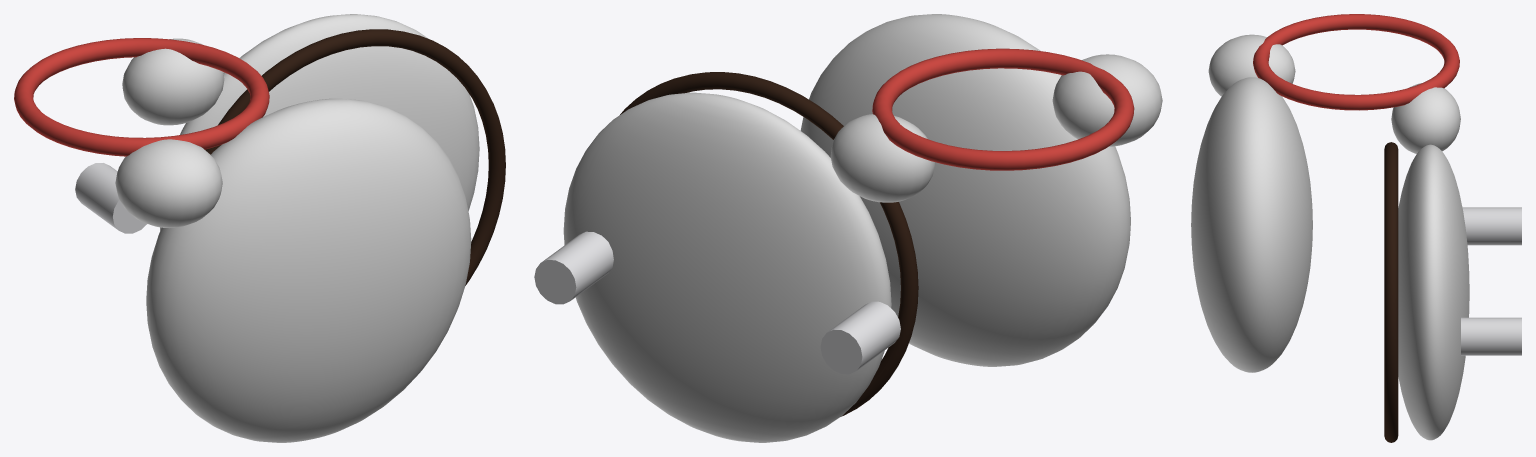
3 views of the same model, side by side, from view 1: azimuth 30°, elevation 25°; view 2: azimuth 150°, elevation 25°; view 3: azimuth 270°, elevation 25° (orthographic). The views are drawn at different scales.
Parts seen in each view (by area): view 1: castanets_v5_default; view 2: castanets_v5_default; view 3: castanets_v5_default.
Part boxes in pixels (x1,y1,x2,y2): castanets_v5_default: [14, 14, 505, 442]; castanets_v5_default: [534, 14, 1162, 442]; castanets_v5_default: [1191, 14, 1521, 442].
Bounding box in the file's own units: 0.5319 × 0.368 × 0.38.
